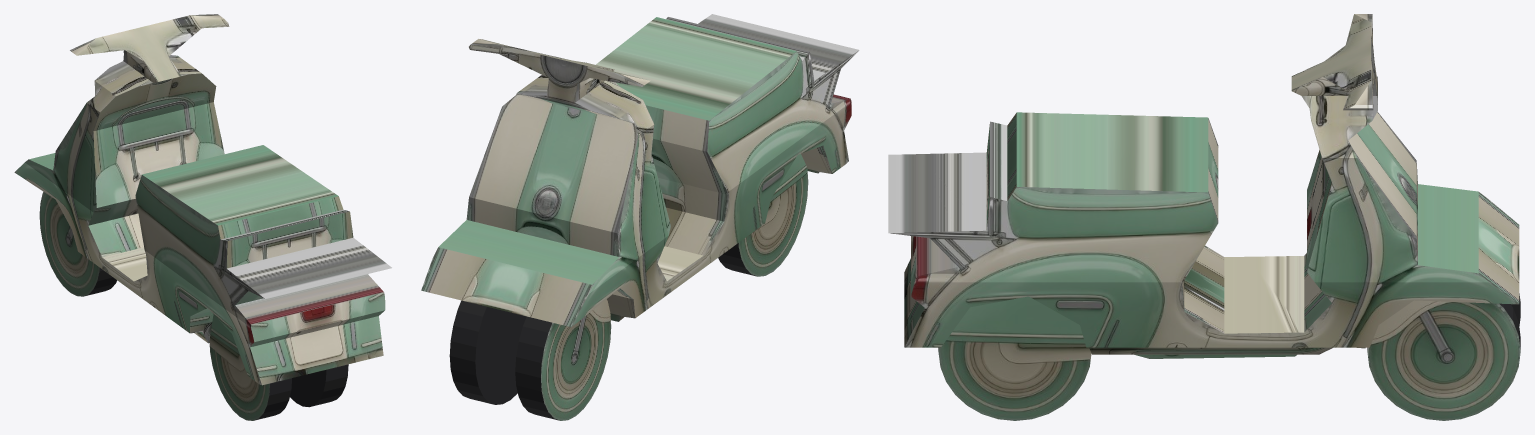
The model's file is scooter_moped.glb.
The picture shows the model from 3 angles, left to right: view 1: azimuth 30°, elevation 25°; view 2: azimuth 150°, elevation 25°; view 3: azimuth 270°, elevation 25°; orthographic projection. The views are drawn at different scales.
Visible parts, largest first — view 1: scooter_moped, wheel_BL, wheel_FL, wheel_BR; view 2: scooter_moped, wheel_FL, wheel_FR, wheel_BL; view 3: scooter_moped, wheel_FR, wheel_BR.
Boxes of the visible parts, left/top/right/bottom form: scooter_moped: left=14, top=14, right=391, bottom=385; wheel_BL: left=209, top=315, right=291, bottom=420; wheel_FL: left=39, top=192, right=116, bottom=296; wheel_BR: left=290, top=364, right=348, bottom=407; scooter_moped: left=421, top=14, right=859, bottom=327; wheel_FL: left=515, top=299, right=611, bottom=420; wheel_FR: left=449, top=300, right=526, bottom=404; wheel_BL: left=718, top=154, right=808, bottom=276; scooter_moped: left=888, top=14, right=1519, bottom=358; wheel_FR: left=1367, top=300, right=1520, bottom=420; wheel_BR: left=938, top=296, right=1091, bottom=420.
Bounding box in the file's own units: 0.6205 × 1.1 × 1.8.
3 materials, 1 textured.
